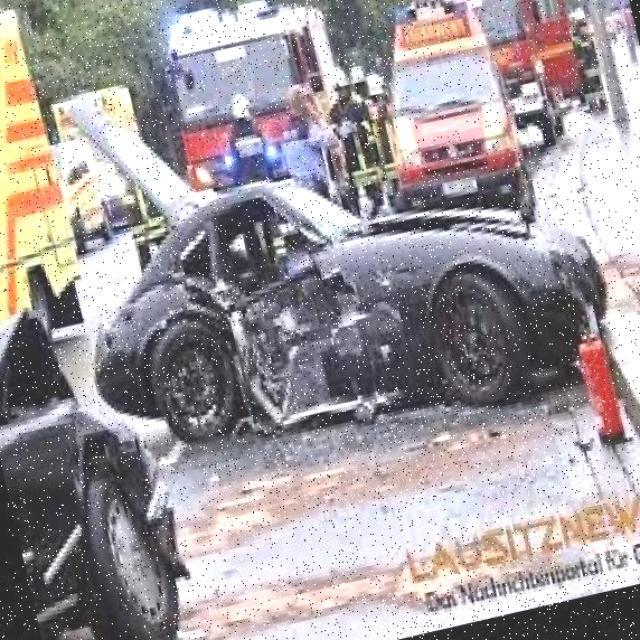accident: (48, 66, 633, 480), (0, 244, 226, 640)
